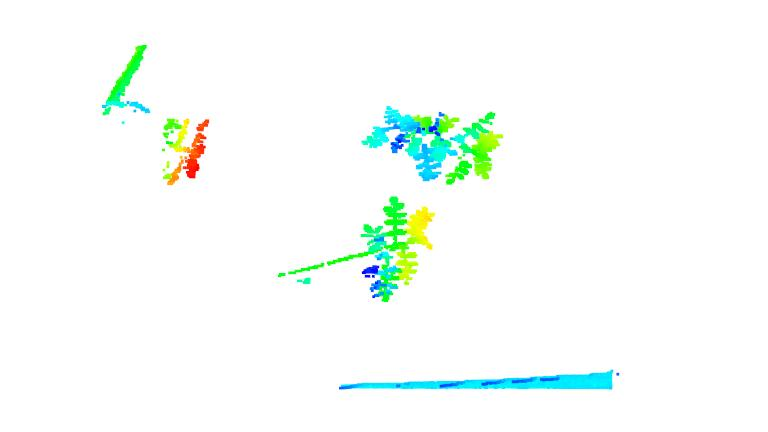chickpea: (362, 101, 502, 188), (359, 194, 437, 303), (158, 115, 212, 187)
